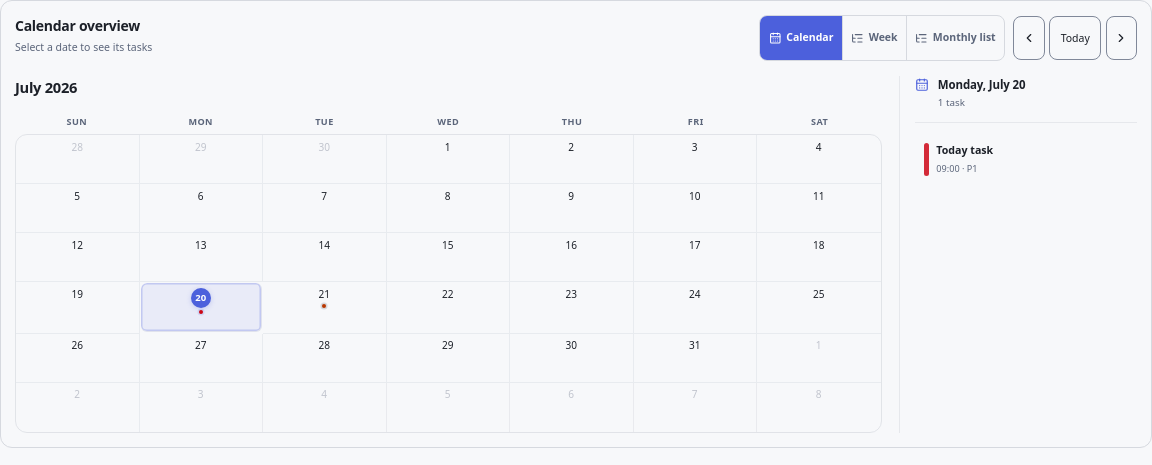
Test case: SummaryCalendar › navigates months and returns to today
The width and height of the screenshot is (1152, 465).
Expected: the heading with test id "summary-calendar-month" reads "July 2026", [15, 77, 77, 97]
Click the button named "Next month".
click(1121, 38)  # box [1106, 16, 1137, 60]
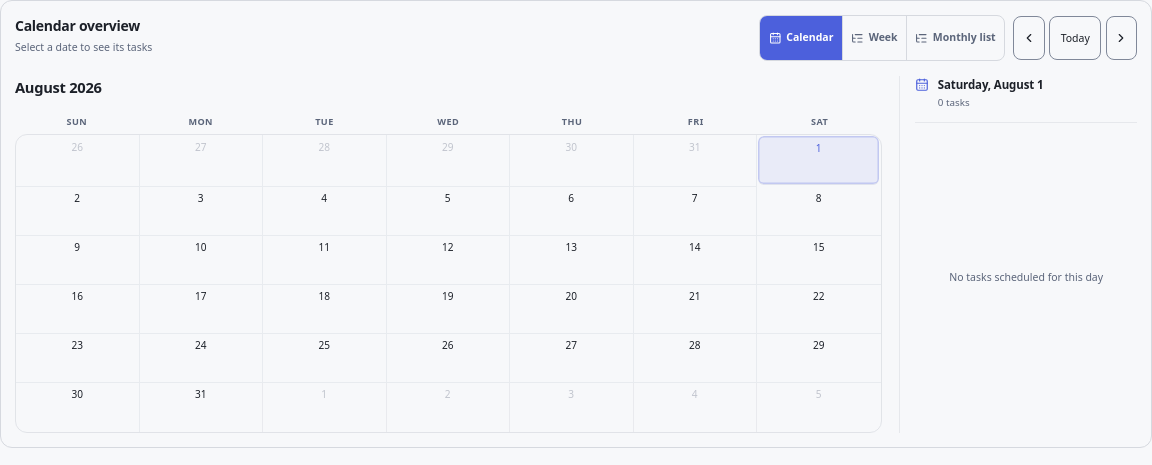
Now the heading with test id "summary-calendar-month" reads "August 2026", box [15, 77, 102, 97]
Now the text "No tasks scheduled for this day" is shown, box [949, 270, 1103, 284]
Click the button "Today".
click(1075, 38)  # box [1049, 16, 1101, 60]
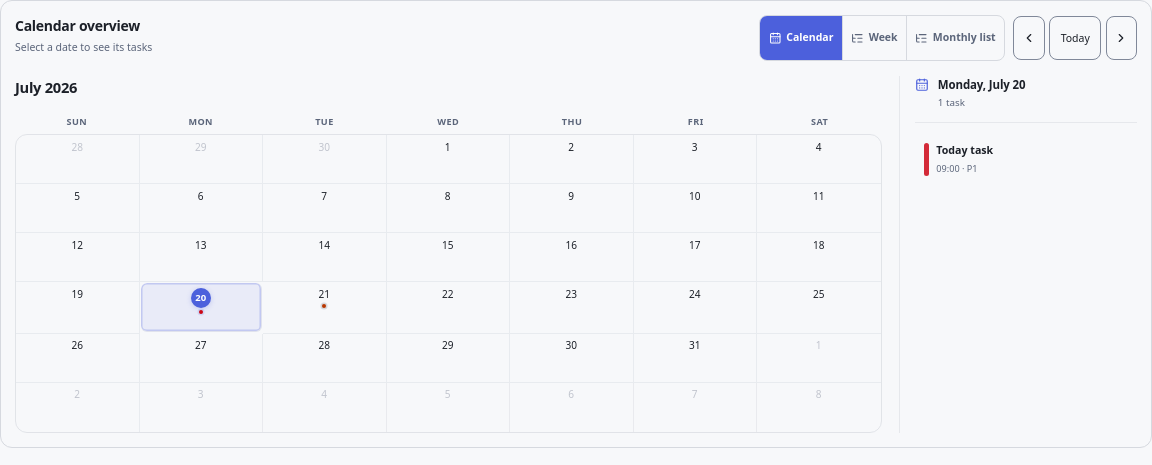
Now the heading with test id "summary-calendar-month" reads "July 2026", box [15, 77, 77, 97]
